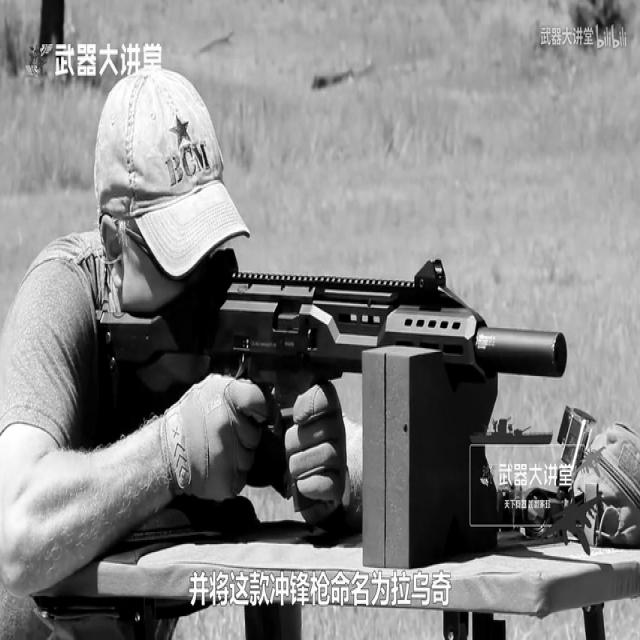Rifle: (41, 176, 601, 640)
